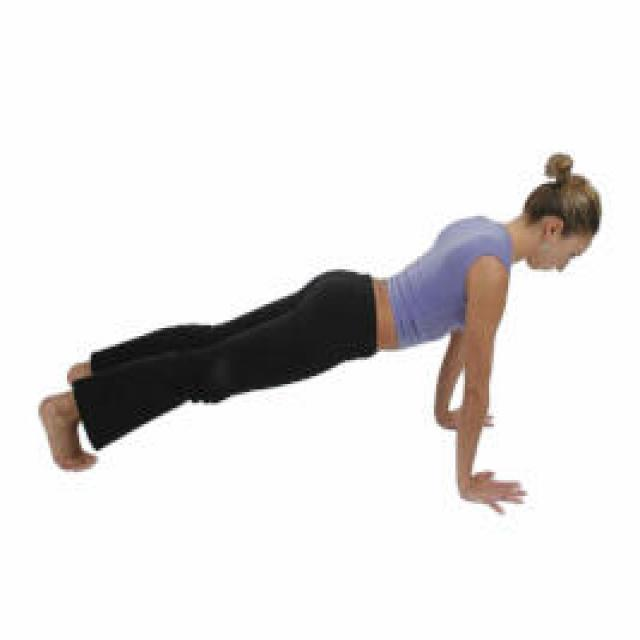yoga-pose plank: (39, 154, 608, 514)
